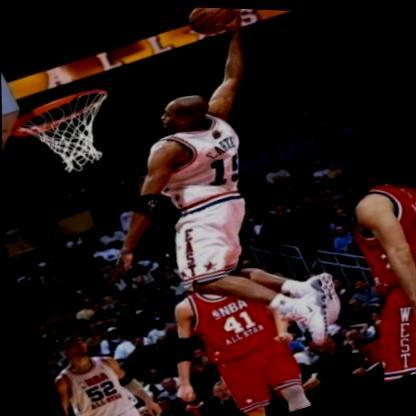basketball: (184, 5, 240, 39)
rim: (13, 81, 129, 184)
